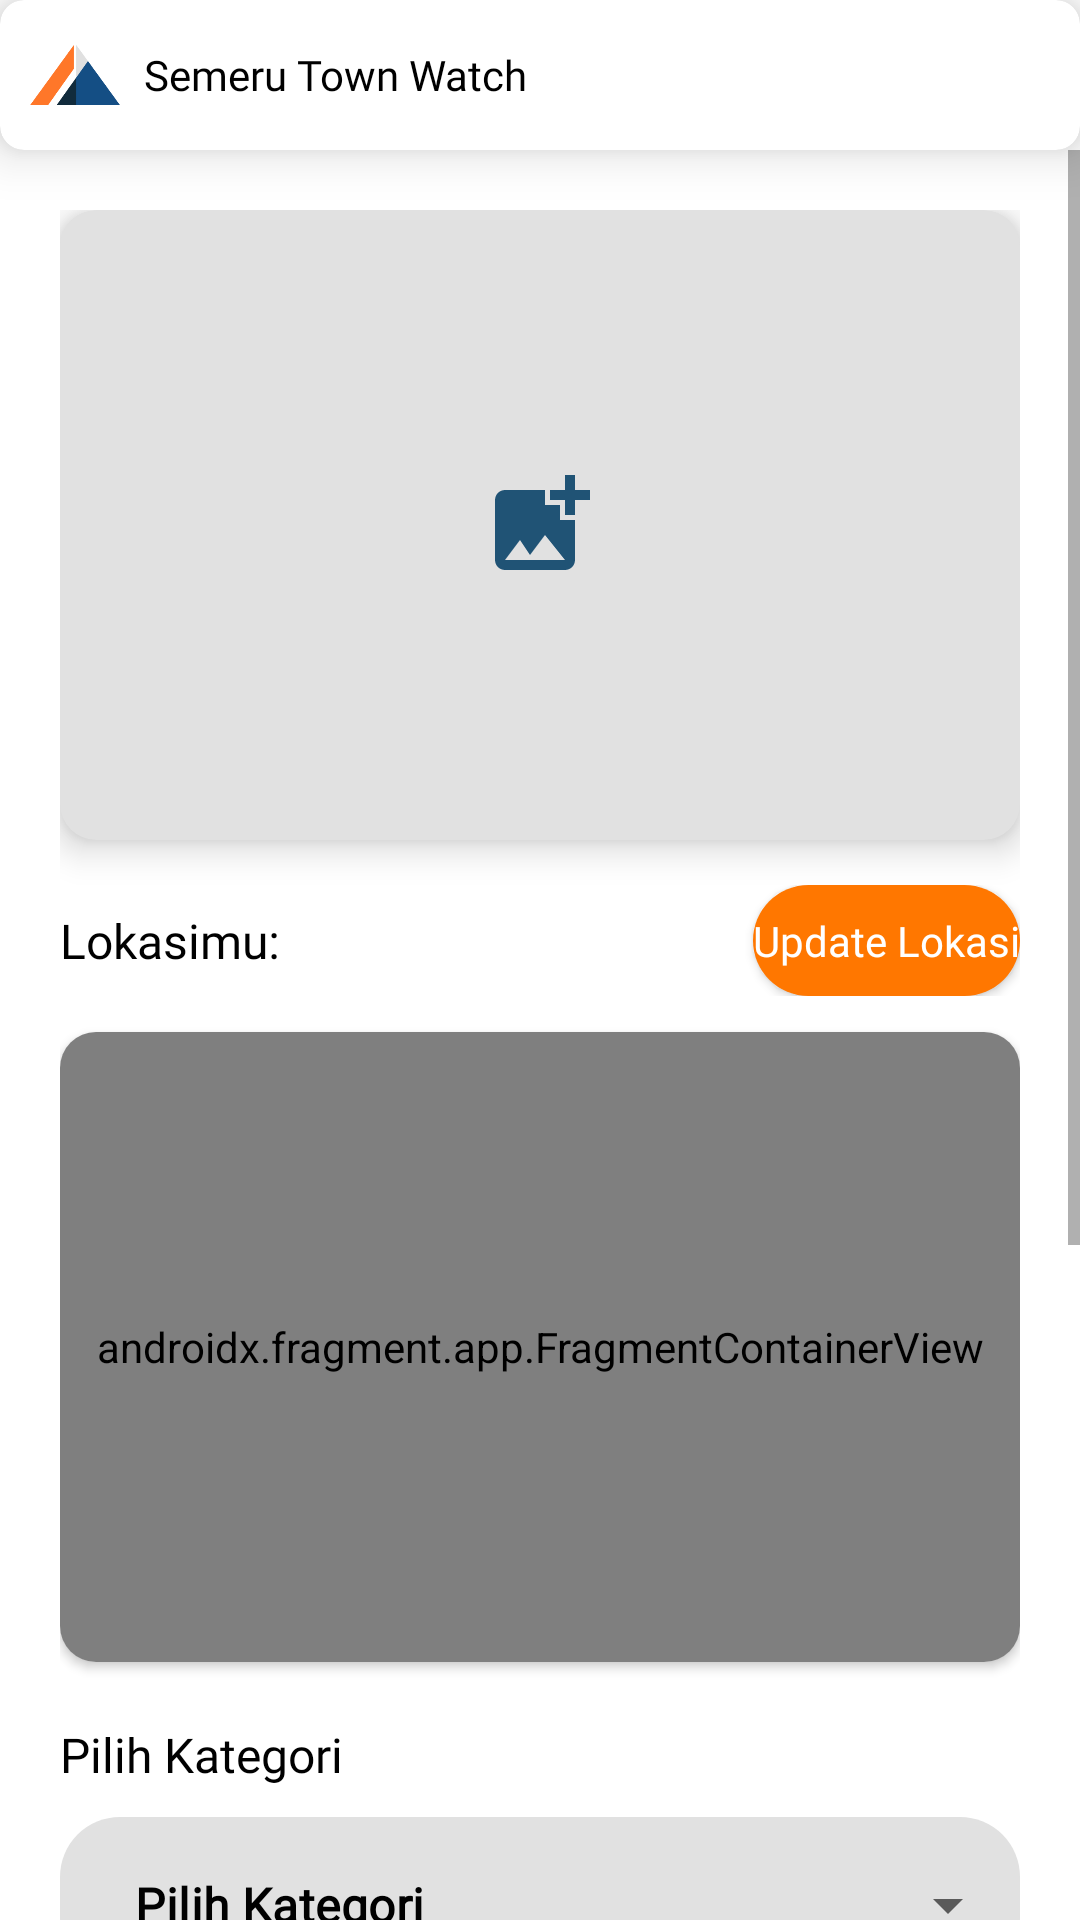

Icons on this 1080px×1920px Android screen, each with the point to tap as (x=x, y=y):
add photo alternate: (x=542, y=522)
